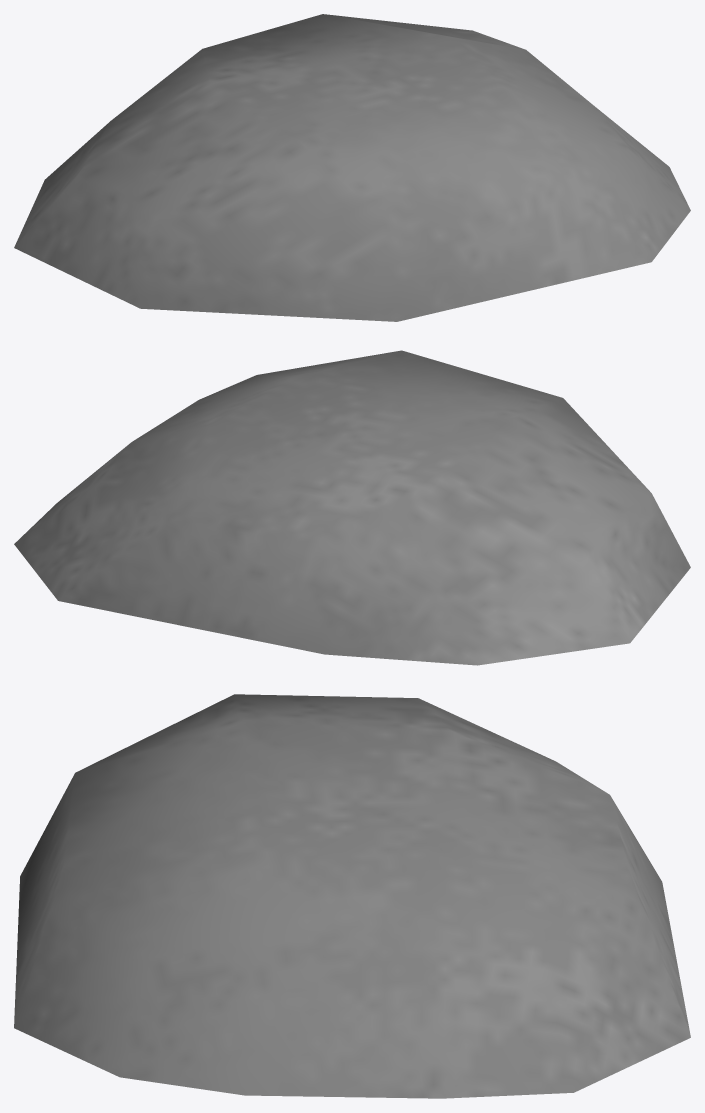
The model's file is Stepping_Stone_1.fbx.
The picture shows the model from 3 angles, top to bottom: view 1: azimuth 30°, elevation 25°; view 2: azimuth 150°, elevation 25°; view 3: azimuth 270°, elevation 25°; orthographic projection. The views are drawn at different scales.
Parts seen in each view (by area): view 1: Cube.082; view 2: Cube.082; view 3: Cube.082.
Part boxes in pixels (<box>): Cube.082: <box>14,14,690,321</box>; Cube.082: <box>14,350,690,665</box>; Cube.082: <box>14,694,690,1098</box>.
Size of the model in its own units: 72.6 by 14.22 by 59.36.
